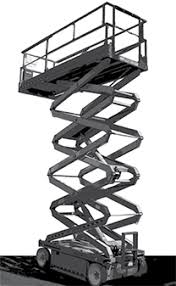Scissor Lift: (16, 1, 149, 286)
